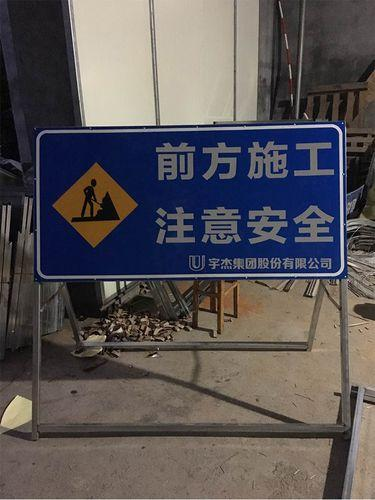sign: (36, 129, 346, 274)
